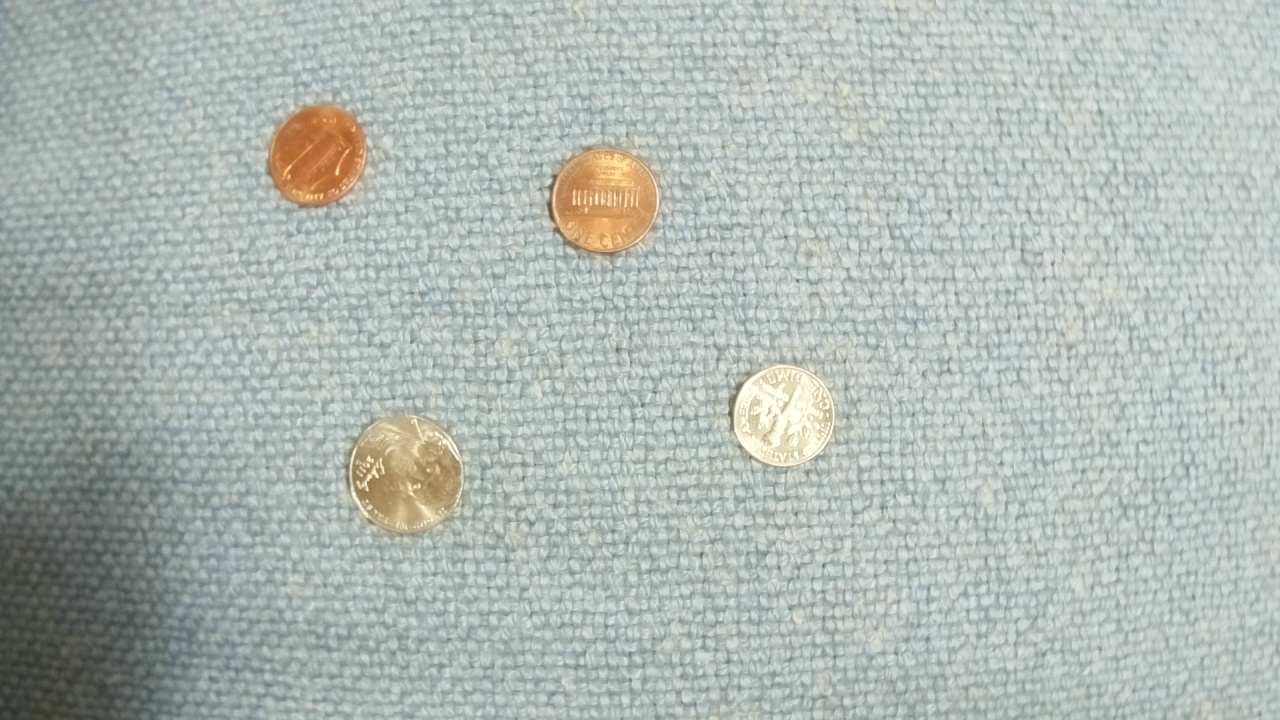dime: (730, 361, 835, 470)
nickel: (345, 411, 466, 533)
penny: (548, 146, 663, 256), (264, 100, 373, 208)
